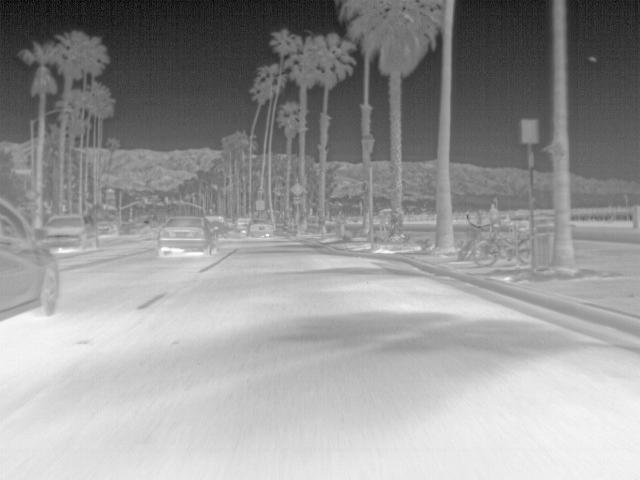car: (0, 197, 63, 321), (157, 214, 221, 253), (41, 211, 96, 251), (248, 218, 276, 238), (90, 220, 117, 234), (235, 218, 256, 234)
